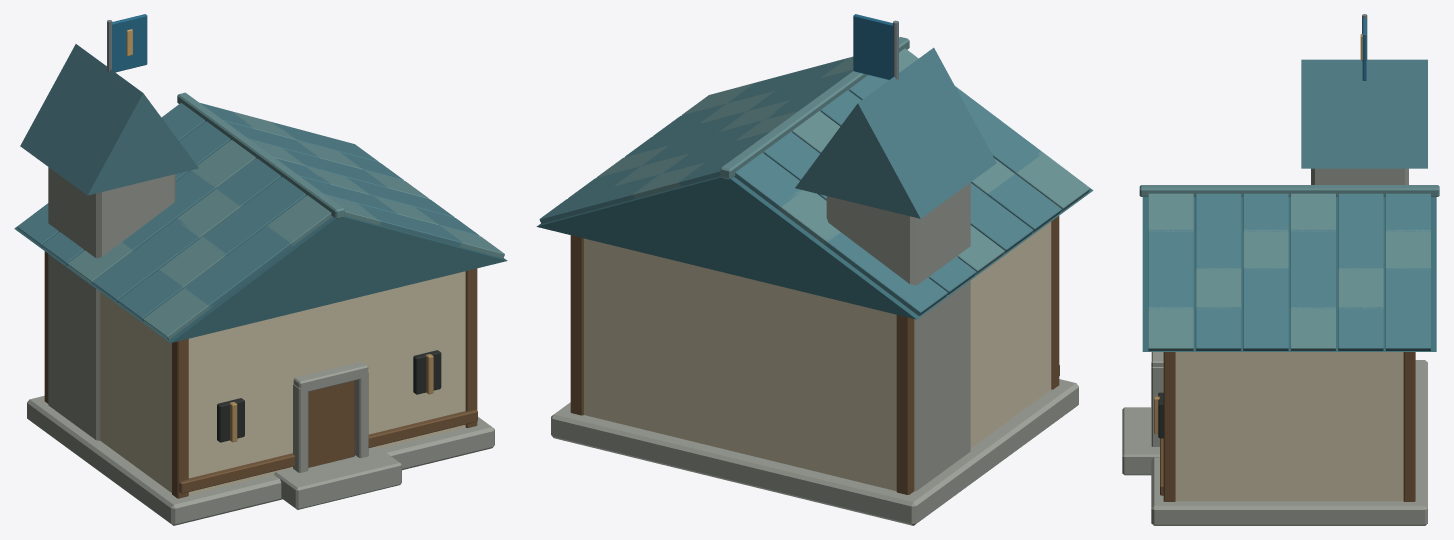
File: keep.glb
3 views of the same model, side by side, from view 1: azimuth 30°, elevation 25°; view 2: azimuth 150°, elevation 25°; view 3: azimuth 270°, elevation 25° (orthographic). The views are drawn at different scales.
Parts seen in each view (by area): view 1: Plaster walls, Solid gabled roof, Tower roof, Keep stone tower, Foundation, Town steps, Door, Front crossbeam, Corner timber, Ridge cap, Corner timber.002, Overlapping slate.018 (+30 smaller); view 2: Plaster walls, Solid gabled roof, Tower roof, Keep stone tower, Foundation, Corner timber.001, Corner timber.003, Hanging pennant, Ridge cap, Overlapping slate.018, Overlapping slate.019, Overlapping slate.005 (+30 smaller); view 3: Plaster walls, Tower roof, Foundation, Solid gabled roof, Ridge cap, Town steps, Overlapping slate.043, Overlapping slate.042, Overlapping slate.044, Overlapping slate.046, Overlapping slate.047, Overlapping slate.045 (+22 smaller).
Boxes of the visible parts, x1=… form: Plaster walls: x1=100, y1=271, x2=465, y2=494; Solid gabled roof: x1=14, y1=216, x2=507, y2=342; Tower roof: x1=20, y1=44, x2=198, y2=195; Keep stone tower: x1=48, y1=167, x2=175, y2=440; Foundation: x1=27, y1=395, x2=494, y2=525; Town steps: x1=274, y1=447, x2=401, y2=509; Door: x1=308, y1=380, x2=354, y2=467; Front crossbeam: x1=179, y1=409, x2=477, y2=493; Corner timber: x1=172, y1=339, x2=188, y2=498; Ridge cap: x1=177, y1=92, x2=344, y2=219; Corner timber.002: x1=465, y1=268, x2=477, y2=427; Overlapping slate.018: x1=143, y1=288, x2=212, y2=339; Plaster walls: x1=584, y1=222, x2=1051, y2=491; Solid gabled roof: x1=536, y1=107, x2=1093, y2=319; Tower roof: x1=795, y1=47, x2=996, y2=218; Keep stone tower: x1=826, y1=182, x2=970, y2=491; Foundation: x1=551, y1=379, x2=1078, y2=525; Corner timber.001: x1=896, y1=315, x2=914, y2=494; Corner timber.003: x1=570, y1=235, x2=583, y2=415; Hanging pennant: x1=853, y1=14, x2=893, y2=79; Ridge cap: x1=720, y1=37, x2=909, y2=179; Overlapping slate.018: x1=1013, y1=151, x2=1090, y2=211; Overlapping slate.019: x1=987, y1=174, x2=1061, y2=232; Overlapping slate.005: x1=734, y1=152, x2=801, y2=210; Plaster walls: x1=1175, y1=352, x2=1403, y2=501; Tower roof: x1=1301, y1=59, x2=1427, y2=168; Foundation: x1=1151, y1=360, x2=1427, y2=525; Solid gabled roof: x1=1142, y1=197, x2=1436, y2=351; Ridge cap: x1=1139, y1=185, x2=1439, y2=196; Town steps: x1=1122, y1=407, x2=1159, y2=475; Overlapping slate.043: x1=1195, y1=307, x2=1241, y2=350; Overlapping slate.042: x1=1148, y1=307, x2=1193, y2=350; Overlapping slate.044: x1=1243, y1=307, x2=1288, y2=350; Overlapping slate.046: x1=1338, y1=307, x2=1383, y2=350; Overlapping slate.047: x1=1385, y1=307, x2=1430, y2=350; Overlapping slate.045: x1=1290, y1=307, x2=1335, y2=350.
Size of the model in its own units: 6.37 by 7.4 by 5.5.
